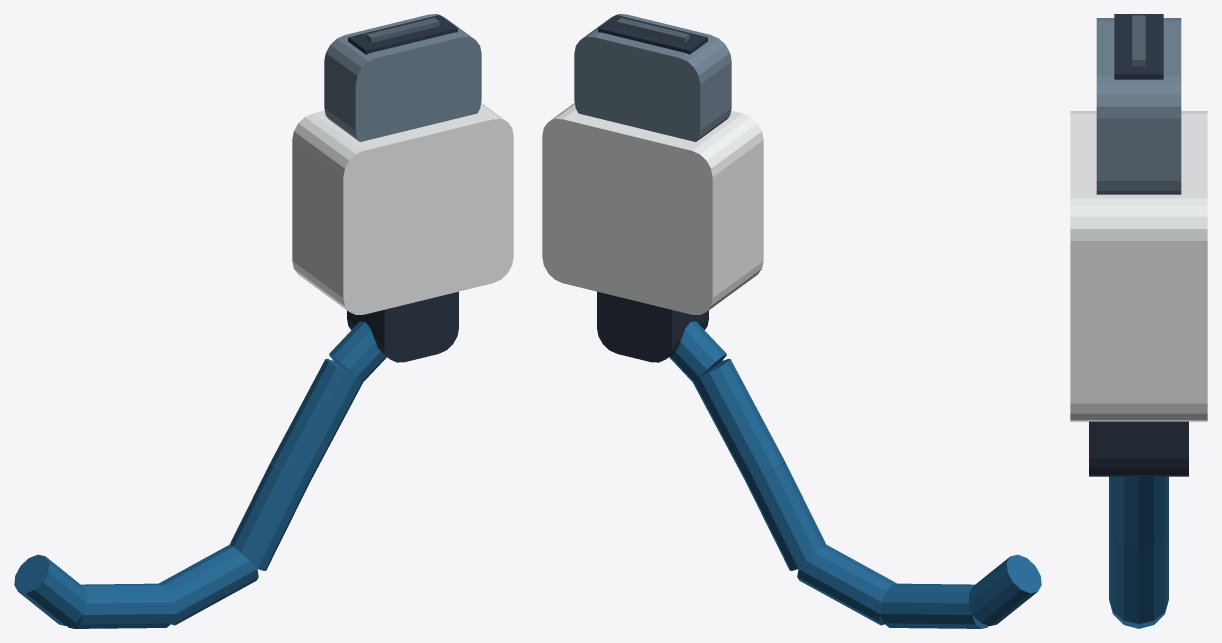
The model's file is usbc.glb.
The picture shows the model from 3 angles, left to right: view 1: azimuth 30°, elevation 25°; view 2: azimuth 150°, elevation 25°; view 3: azimuth 270°, elevation 25°; orthographic projection. The views are drawn at different scales.
Visible parts, largest first — view 1: plug sleeve, metal plug, rubber cable4, strain relief, rubber cable3, rubber cable1, rubber cable2, rubber cable0, rubber cable5, plug opening, contact tongue; view 2: plug sleeve, metal plug, rubber cable4, strain relief, rubber cable3, rubber cable1, rubber cable2, rubber cable0, rubber cable5, plug opening, contact tongue; view 3: plug sleeve, metal plug, strain relief, rubber cable3, rubber cable4, plug opening, contact tongue, rubber cable2.
Part boxes in pixels (<box>): plug sleeve: <box>292,103,513,314</box>; metal plug: <box>324,14,481,141</box>; rubber cable4: <box>271,358,362,481</box>; strain relief: <box>347,291,458,362</box>; rubber cable3: <box>230,462,309,570</box>; rubber cable1: <box>67,583,175,628</box>; rubber cable2: <box>159,544,258,625</box>; rubber cable0: <box>14,554,87,626</box>; rubber cable5: <box>329,321,386,381</box>; plug opening: <box>348,15,457,54</box>; contact tongue: <box>366,18,439,42</box>; plug sleeve: <box>542,103,763,314</box>; metal plug: <box>574,14,731,141</box>; rubber cable4: <box>693,358,784,481</box>; strain relief: <box>597,291,708,362</box>; rubber cable3: <box>746,462,825,570</box>; rubber cable1: <box>880,583,988,628</box>; rubber cable2: <box>797,544,896,625</box>; rubber cable0: <box>968,554,1041,626</box>; rubber cable5: <box>669,321,726,381</box>; plug opening: <box>598,15,707,54</box>; contact tongue: <box>616,18,689,42</box>; plug sleeve: <box>1070,111,1207,421</box>; metal plug: <box>1096,18,1181,194</box>; strain relief: <box>1089,421,1188,476</box>; rubber cable3: <box>1109,524,1168,623</box>; rubber cable4: <box>1109,476,1168,547</box>; plug opening: <box>1114,14,1163,79</box>; contact tongue: <box>1132,15,1145,66</box>; rubber cable2: <box>1109,602,1168,628</box>.
Size of the model in its own units: 1.38 by 1.51 by 0.26.
